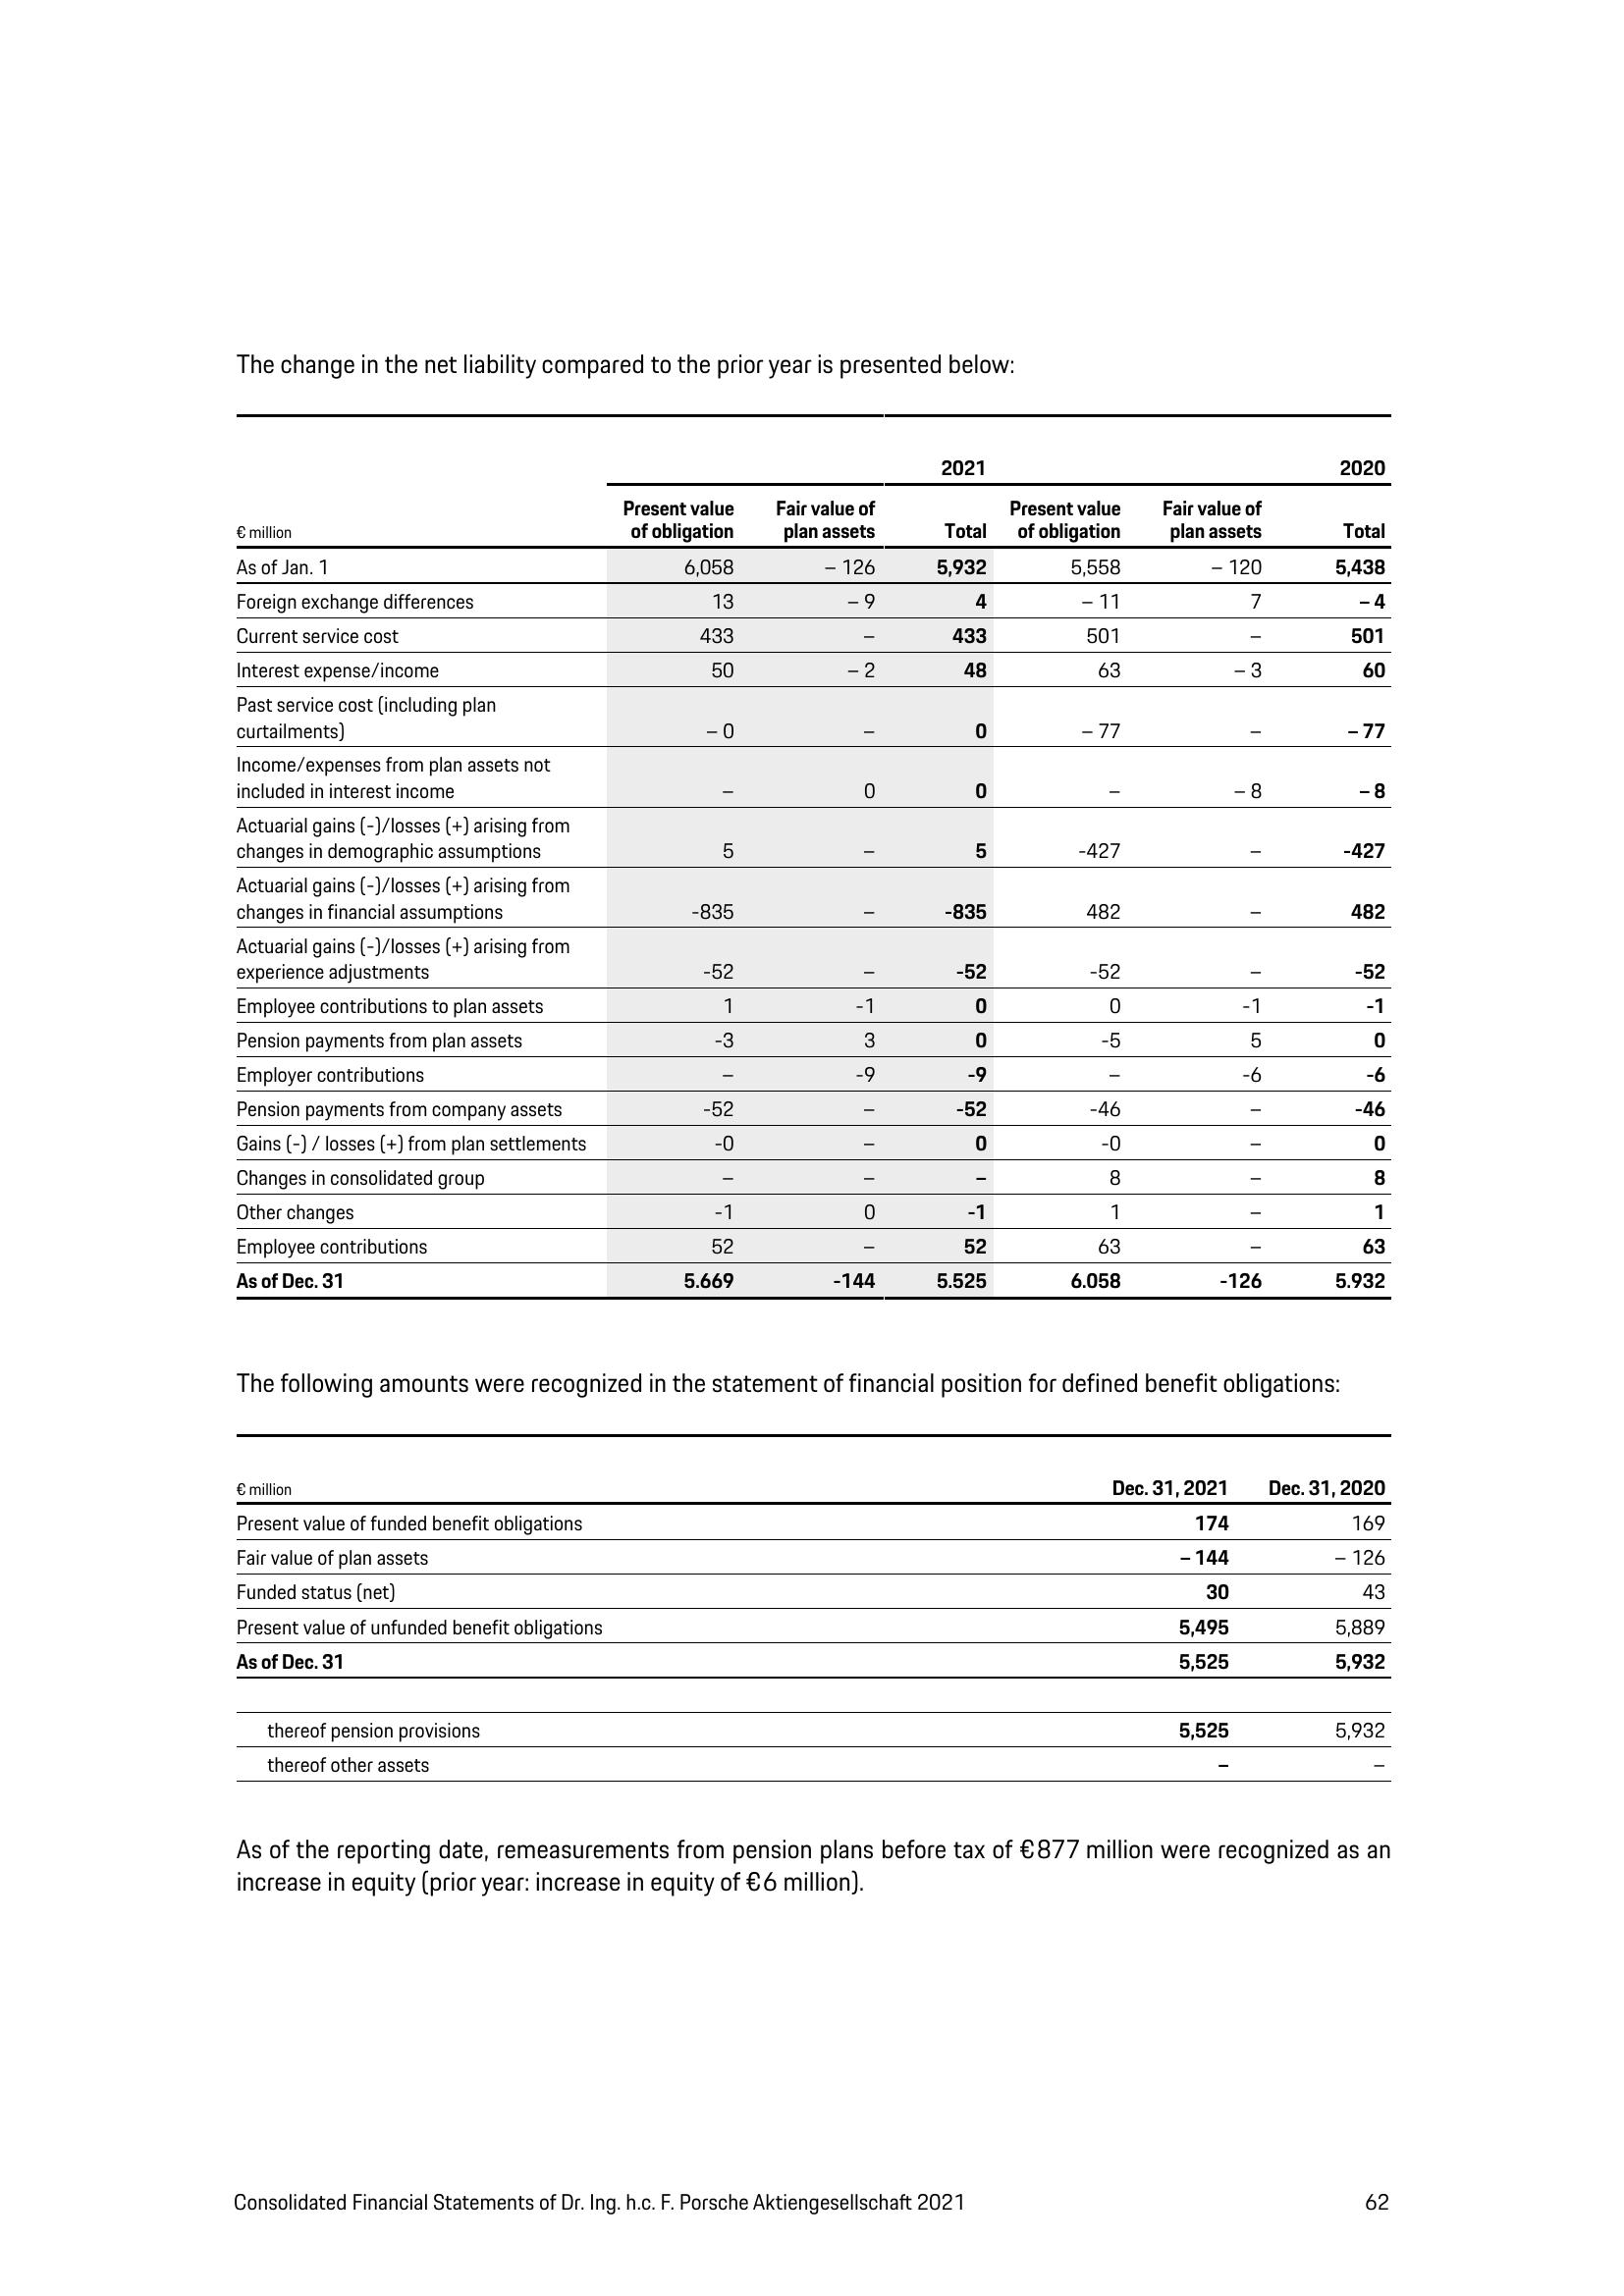Footer: (0, 2140, 1624, 2296)
Header: (0, 0, 1624, 202)
Table: (163, 408, 1461, 1293), (199, 1426, 1434, 1799)
